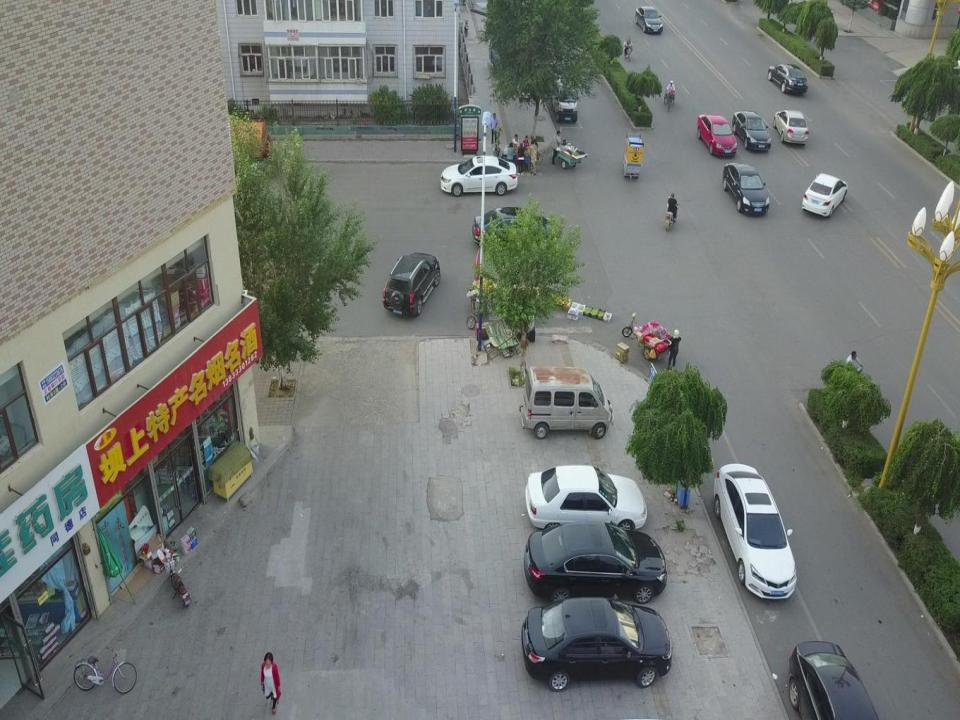car: (521, 596, 672, 691), (524, 520, 666, 604), (714, 463, 797, 599), (525, 464, 648, 536), (788, 639, 880, 719), (472, 206, 557, 250), (382, 252, 440, 316), (440, 154, 518, 196), (722, 162, 770, 214), (801, 173, 848, 218), (696, 112, 738, 154), (732, 110, 771, 151), (773, 110, 808, 144), (767, 63, 808, 92), (634, 6, 664, 33)
van: (520, 365, 614, 440), (550, 76, 577, 122)
